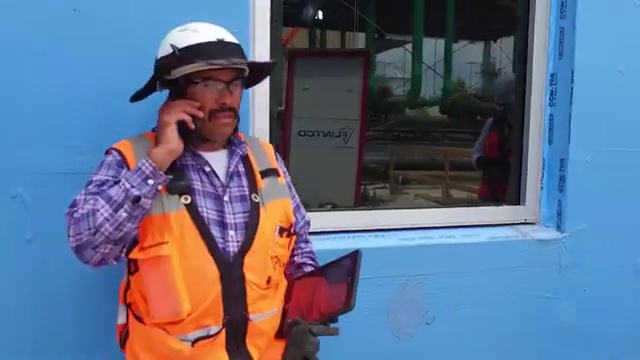helmet: (151, 16, 261, 93)
jacket: (90, 121, 320, 360)
